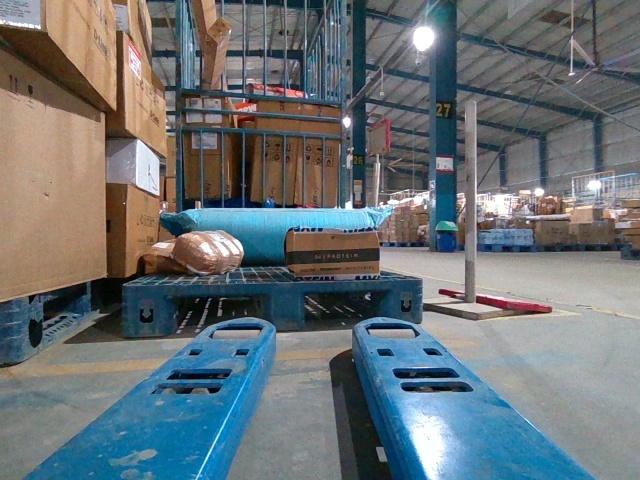block: (125, 282, 169, 338), (264, 281, 308, 329), (387, 279, 425, 325)
front: (125, 278, 423, 335)
hole pallet: (174, 296, 266, 337), (303, 292, 387, 329)
